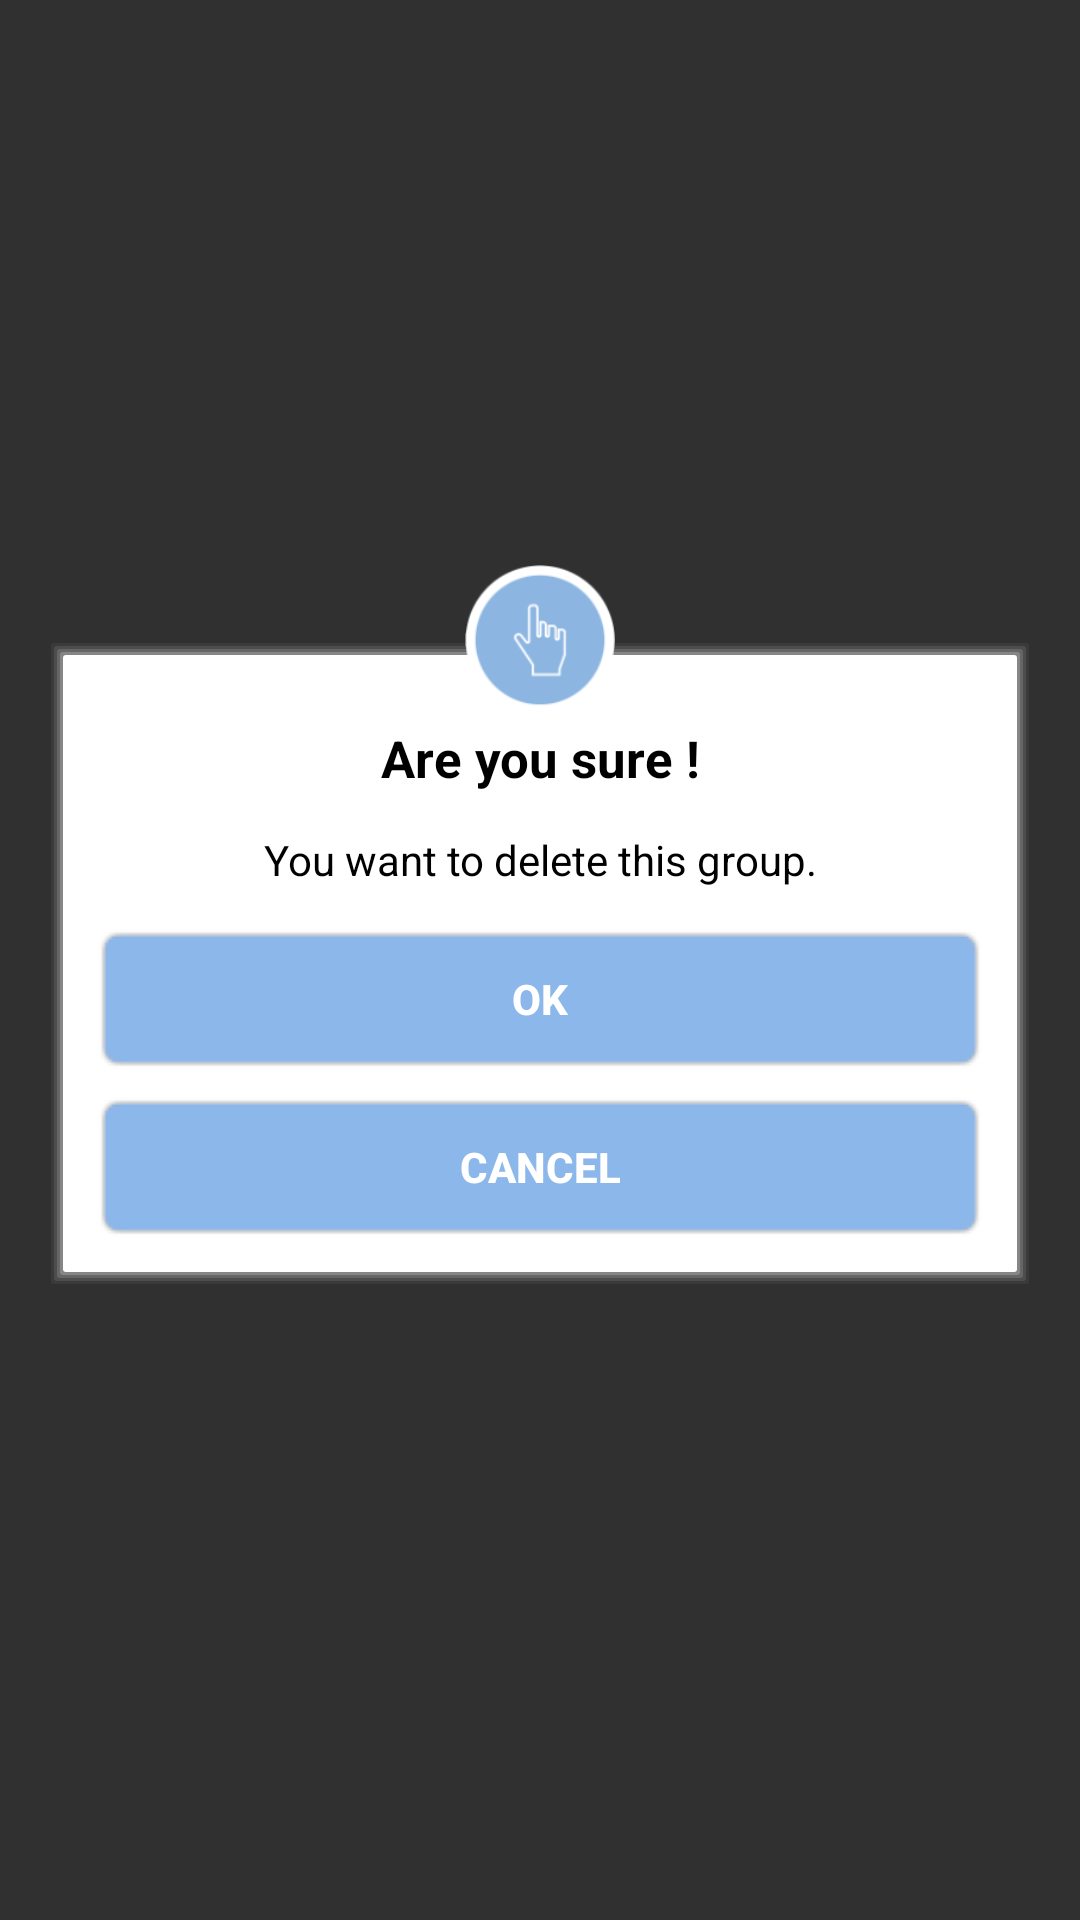

Icon click points for this 1080x1920 phone screenshot, format (x,y):
hand circle: (540,640)
